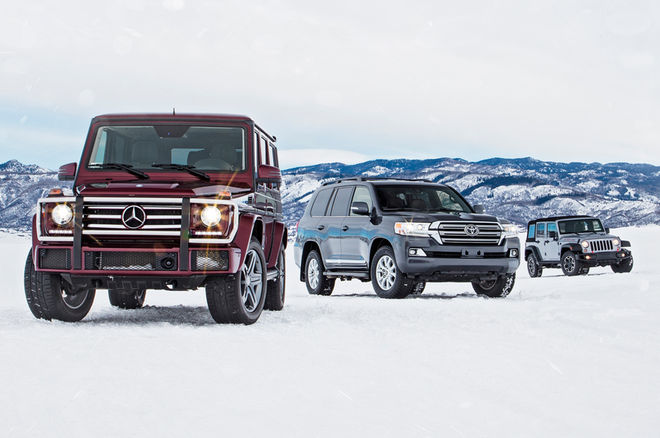car: (25, 112, 286, 326), (292, 175, 522, 297), (524, 215, 636, 277)
